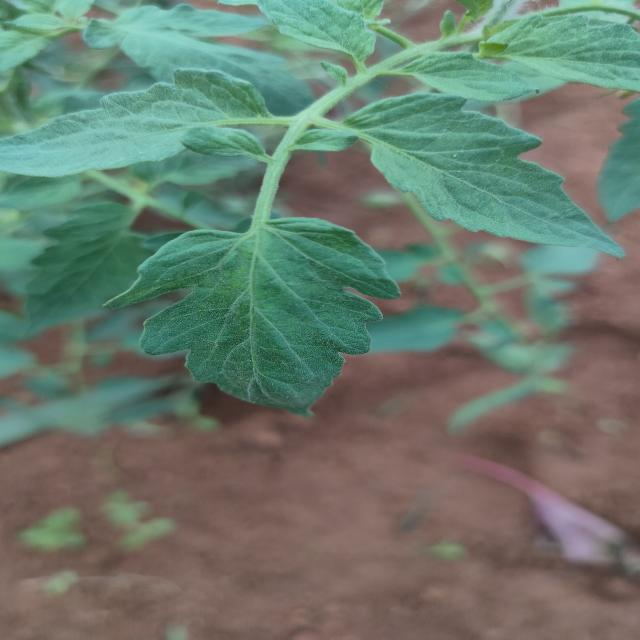tomato_healthy: (108, 216, 400, 418), (301, 93, 618, 256), (3, 69, 267, 176)
